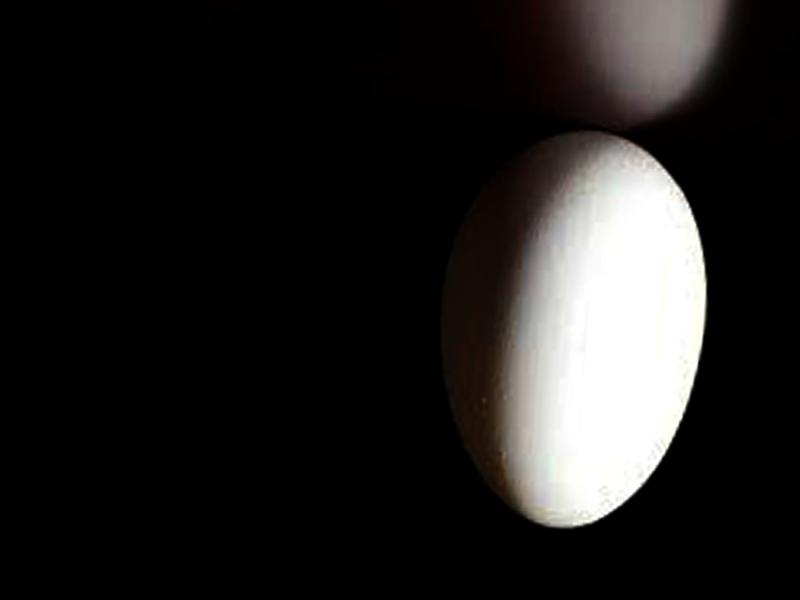Eggs: (428, 119, 718, 537)
